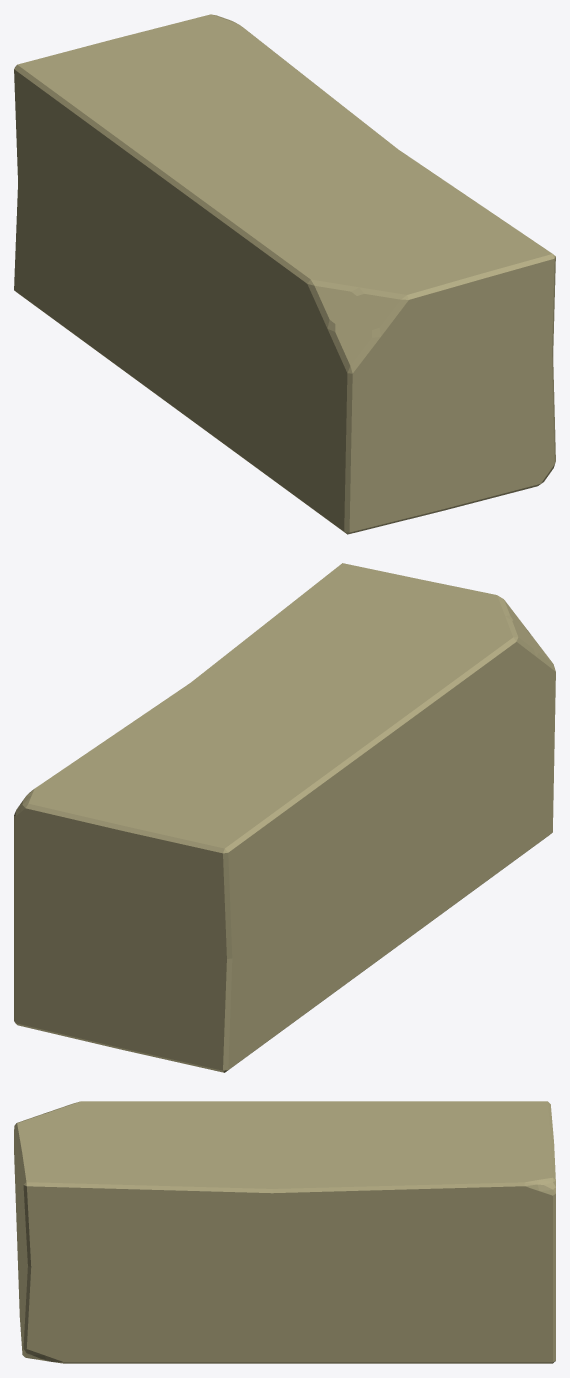
Rendered from brick_2.fbx.
3 views of the same model, one above another, from view 1: azimuth 30°, elevation 25°; view 2: azimuth 150°, elevation 25°; view 3: azimuth 270°, elevation 25° (orthographic). The views are drawn at different scales.
Parts seen in each view (by area): view 1: Brick; view 2: Brick; view 3: Brick.
Part boxes in pixels (<box>): Brick: <box>14,14,555,534</box>; Brick: <box>14,563,555,1072</box>; Brick: <box>14,1101,555,1363</box>.
Size of the model in its own units: 32.58 by 33.1 by 89.52.
